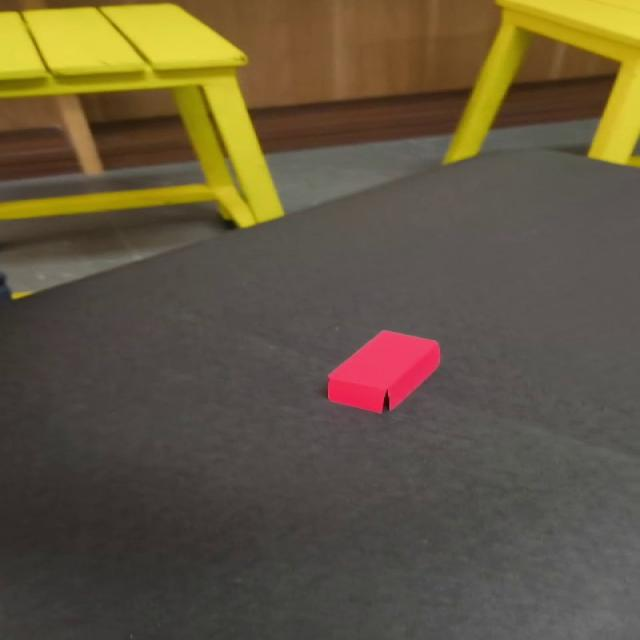red block: (324, 329, 441, 413)
